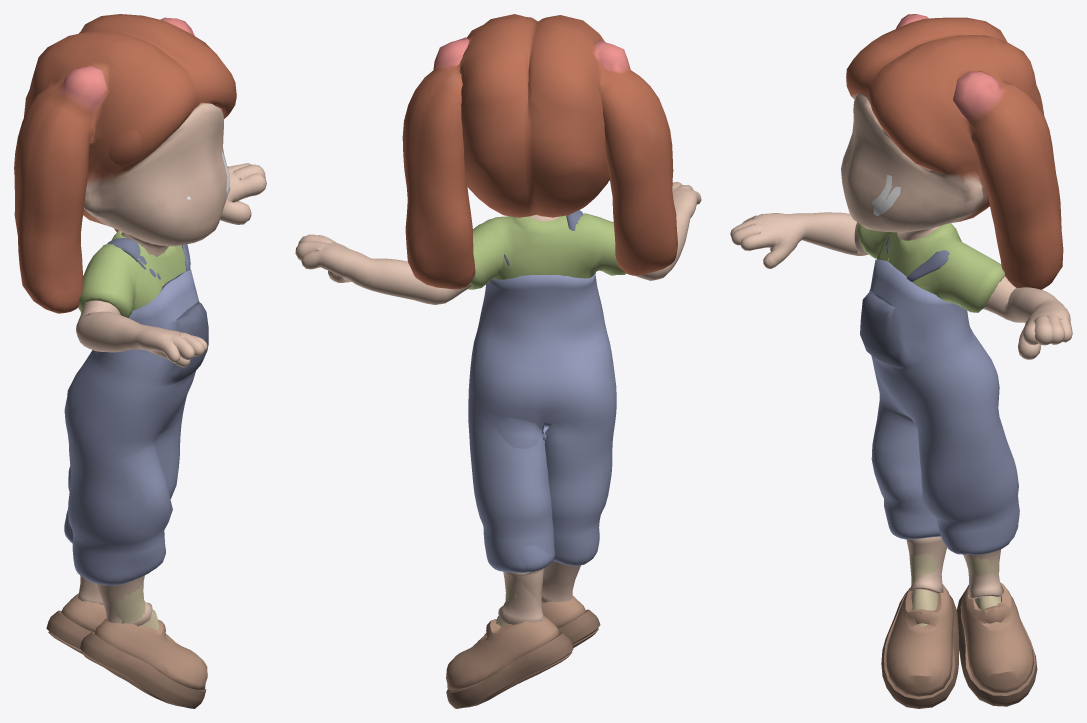
The picture shows the model from 3 angles, left to right: view 1: azimuth 30°, elevation 25°; view 2: azimuth 150°, elevation 25°; view 3: azimuth 270°, elevation 25°; orthographic projection. The views are drawn at different scales.
Parts seen in each view (by area): view 1: Arms.014; view 2: Arms.014; view 3: Arms.014.
Part boxes in pixels (x1,y1,x2,y2): Arms.014: (14, 14, 266, 708); Arms.014: (295, 14, 701, 708); Arms.014: (730, 14, 1072, 708).
Bounding box in the file's own units: 83.79 × 174 × 82.15.
